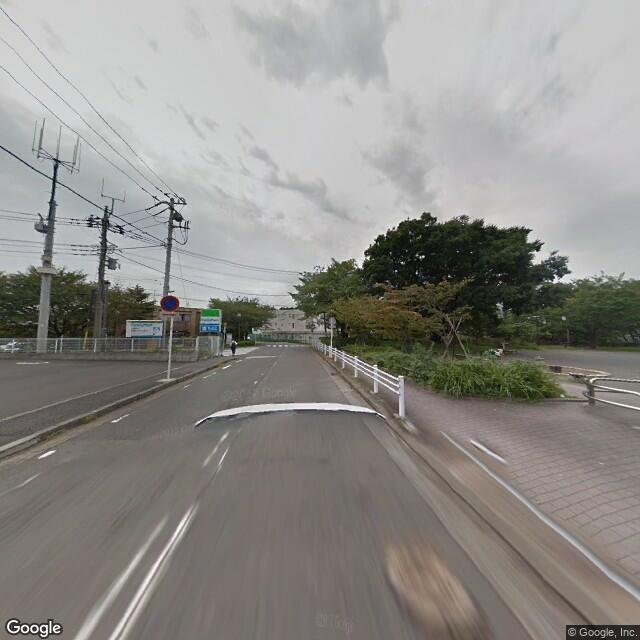family_mart: (198, 303, 221, 334)
